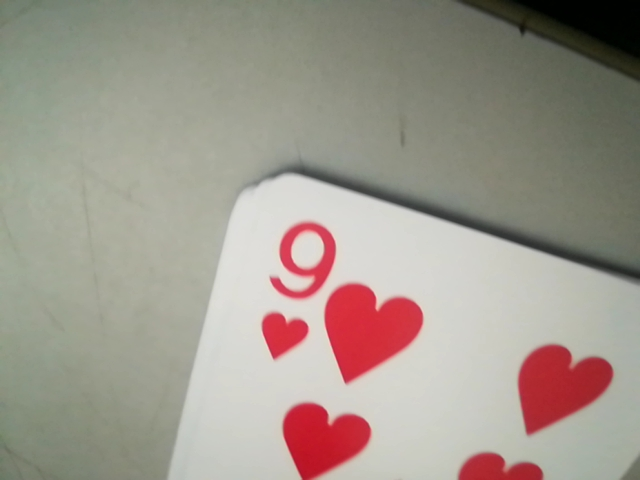hx 9: (236, 222, 338, 362)
